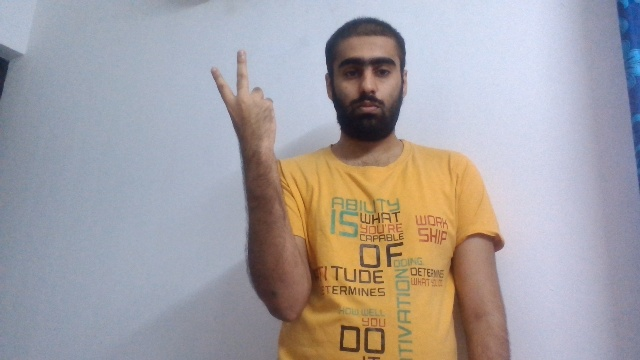scissors: (209, 48, 277, 152)
